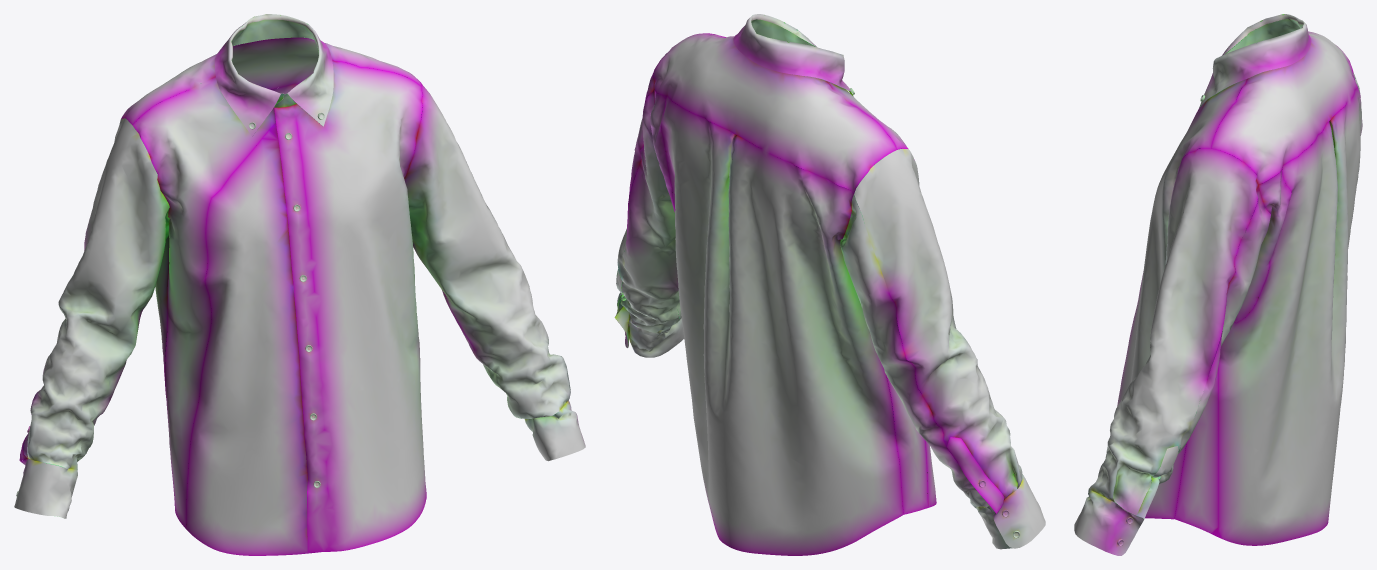
Rendered from shirt.glb.
The picture shows the model from 3 angles, left to right: view 1: azimuth 30°, elevation 25°; view 2: azimuth 150°, elevation 25°; view 3: azimuth 270°, elevation 25°; orthographic projection. The views are drawn at different scales.
Parts seen in each view (by area): view 1: front, back, sleeve_r, sleeve_l, collar; view 2: back, sleeve_r, sleeve_l, collar; view 3: back, sleeve_l, front, collar.
Part boxes in pixels (left/top/right/bottom): front: left=186, top=60, right=426, bottom=555; back: left=121, top=14, right=421, bottom=528; sleeve_r: left=14, top=118, right=169, bottom=518; sleeve_l: left=404, top=83, right=585, bottom=461; collar: left=231, top=19, right=318, bottom=107; back: left=653, top=14, right=928, bottom=555; sleeve_r: left=840, top=149, right=1045, bottom=549; sleeve_l: left=614, top=71, right=684, bottom=357; collar: left=751, top=19, right=814, bottom=46; back: left=1199, top=14, right=1362, bottom=545; sleeve_l: left=1074, top=148, right=1291, bottom=555; front: left=1117, top=79, right=1247, bottom=536; collar: left=1226, top=18, right=1302, bottom=53.
Bounding box in the file's own units: 0.8009 × 0.78 × 0.4141.
